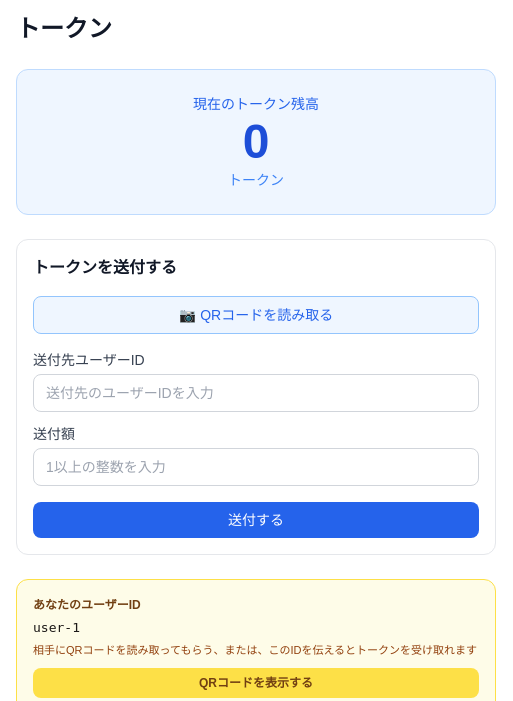
Scenario: TokensPage - 送付フォーム（要件7.1） › 送付先ユーザーIDが空の場合にエラーが表示されること
toUserId を空のまま送付ボタンをクリックする
Click the button "送付する" at [256, 520], box [33,502,479,538]
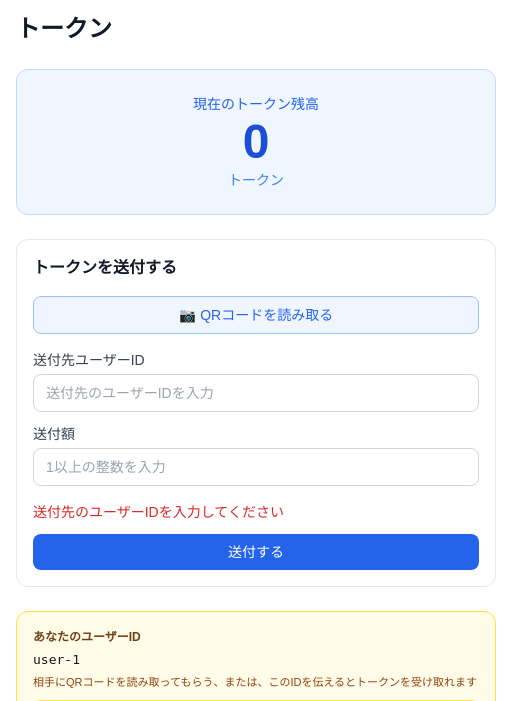
Now the message shows "ユーザーID", box [33,504,284,520]
